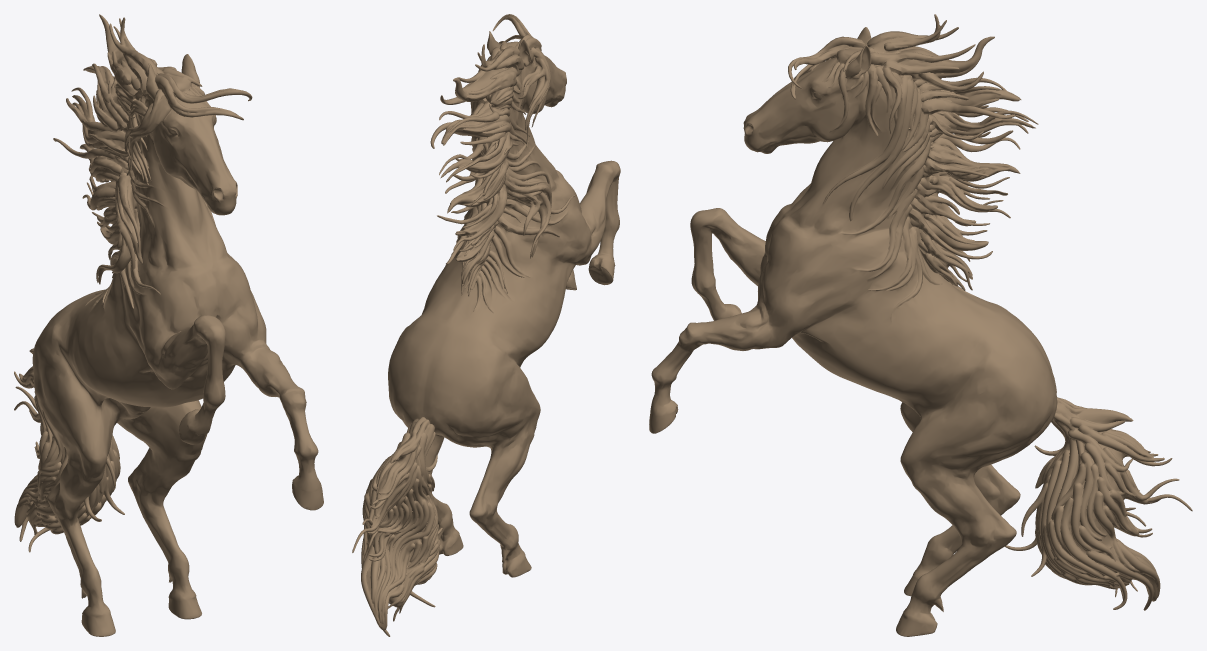
File: horse.glb
3 views of the same model, side by side, from view 1: azimuth 30°, elevation 25°; view 2: azimuth 150°, elevation 25°; view 3: azimuth 270°, elevation 25° (orthographic). The views are drawn at different scales.
Visible parts, largest first — view 1: Object_2; view 2: Object_2; view 3: Object_2.
Boxes of the visible parts, x1,y1,x2,y2 form: Object_2: (14,14,323,636); Object_2: (352,14,620,636); Object_2: (649,14,1192,636).
Size of the model in its own units: 14.52 by 63.06 by 52.17.
